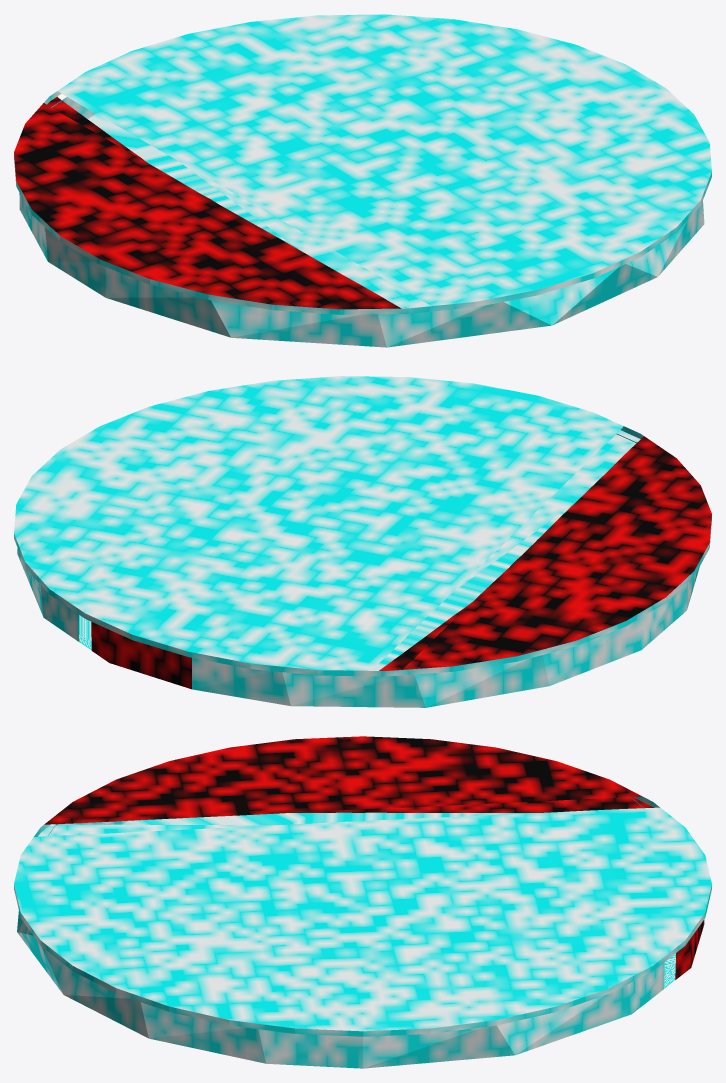
Rendered from SM_Record_01_KJS.fbx.
3 views of the same model, one above another, from view 1: azimuth 30°, elevation 25°; view 2: azimuth 150°, elevation 25°; view 3: azimuth 270°, elevation 25° (orthographic).
Parts seen in each view (by area): view 1: SM_Record_01_KJS; view 2: SM_Record_01_KJS; view 3: SM_Record_01_KJS.
Boxes of the visible parts, box(x1,y1,x2,y2) form: SM_Record_01_KJS: box(14, 14, 711, 347); SM_Record_01_KJS: box(14, 376, 711, 707); SM_Record_01_KJS: box(14, 736, 711, 1068).
Size of the model in its own units: 36.38 by 2.34 by 36.38.
